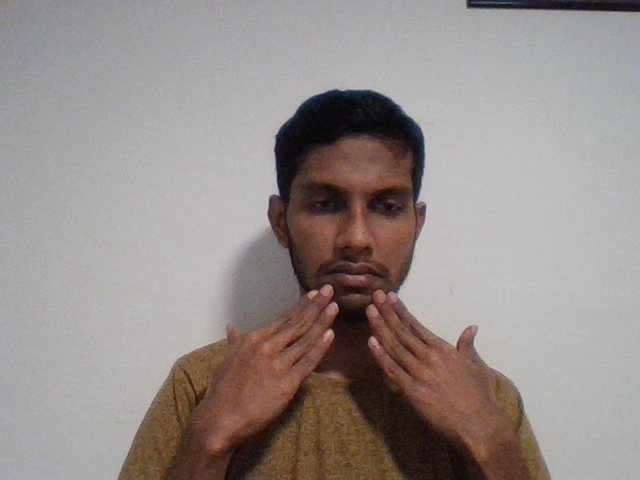thanks: (165, 279, 564, 447)
